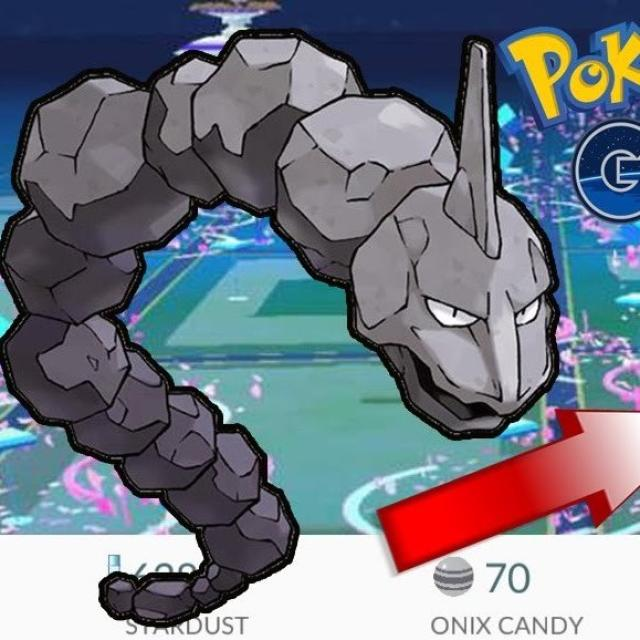Onix: (8, 41, 550, 438)
